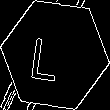L_N: (37, 28, 73, 82)
